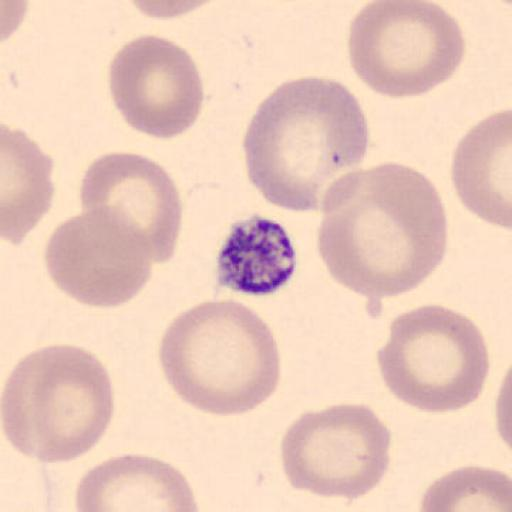Platelet: (212, 212, 300, 298)
RBC: (316, 160, 449, 300), (242, 75, 370, 214), (157, 297, 282, 418), (2, 343, 116, 467), (378, 302, 490, 415), (76, 150, 183, 266), (346, 1, 466, 99), (44, 204, 154, 310), (278, 401, 392, 503), (105, 32, 205, 141), (449, 106, 512, 230), (72, 451, 200, 512), (2, 125, 56, 247), (417, 462, 511, 512), (0, 444, 58, 512), (125, 0, 226, 21), (492, 357, 512, 455), (495, 370, 512, 456), (0, 0, 30, 45)
